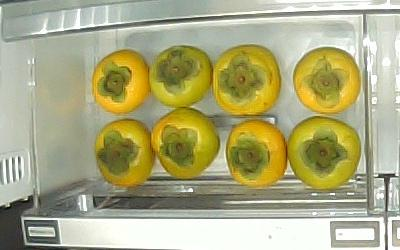persimmon: (288, 116, 362, 193), (152, 106, 221, 182), (213, 45, 281, 117), (292, 46, 361, 114), (94, 118, 154, 187), (225, 122, 287, 188), (149, 44, 213, 107), (91, 49, 148, 114)
